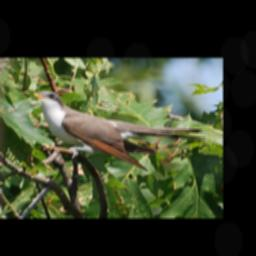Cuckoo: (33, 90, 208, 172)
